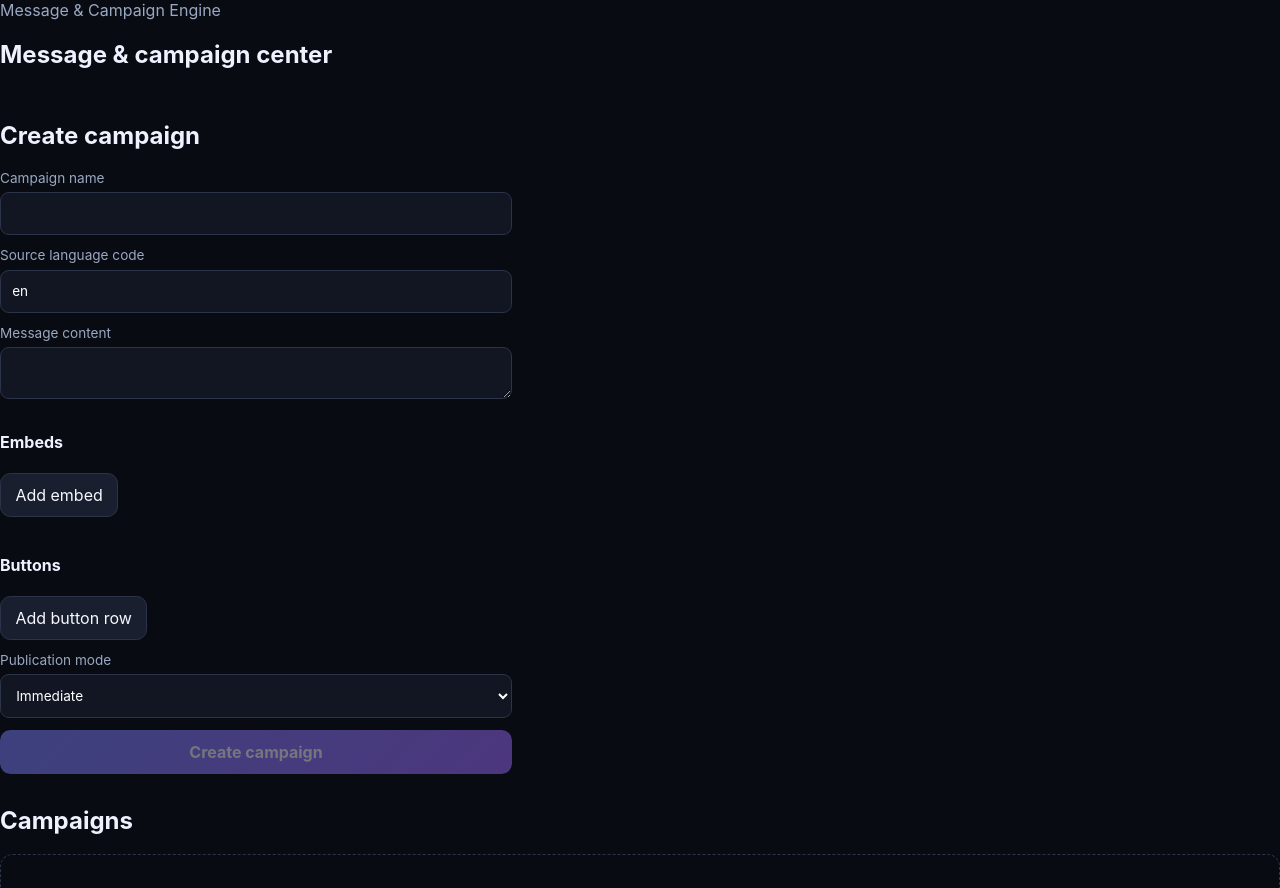
Test: STAGE 09 campaign center › creates a campaign through the real endpoint and selects it
Expected: the heading "Message & campaign center" is shown, [0,40,332,69]
Step 1. Type "Autumn sale" into the field labelled "Campaign name" → (256, 214), box [0,192,512,235]
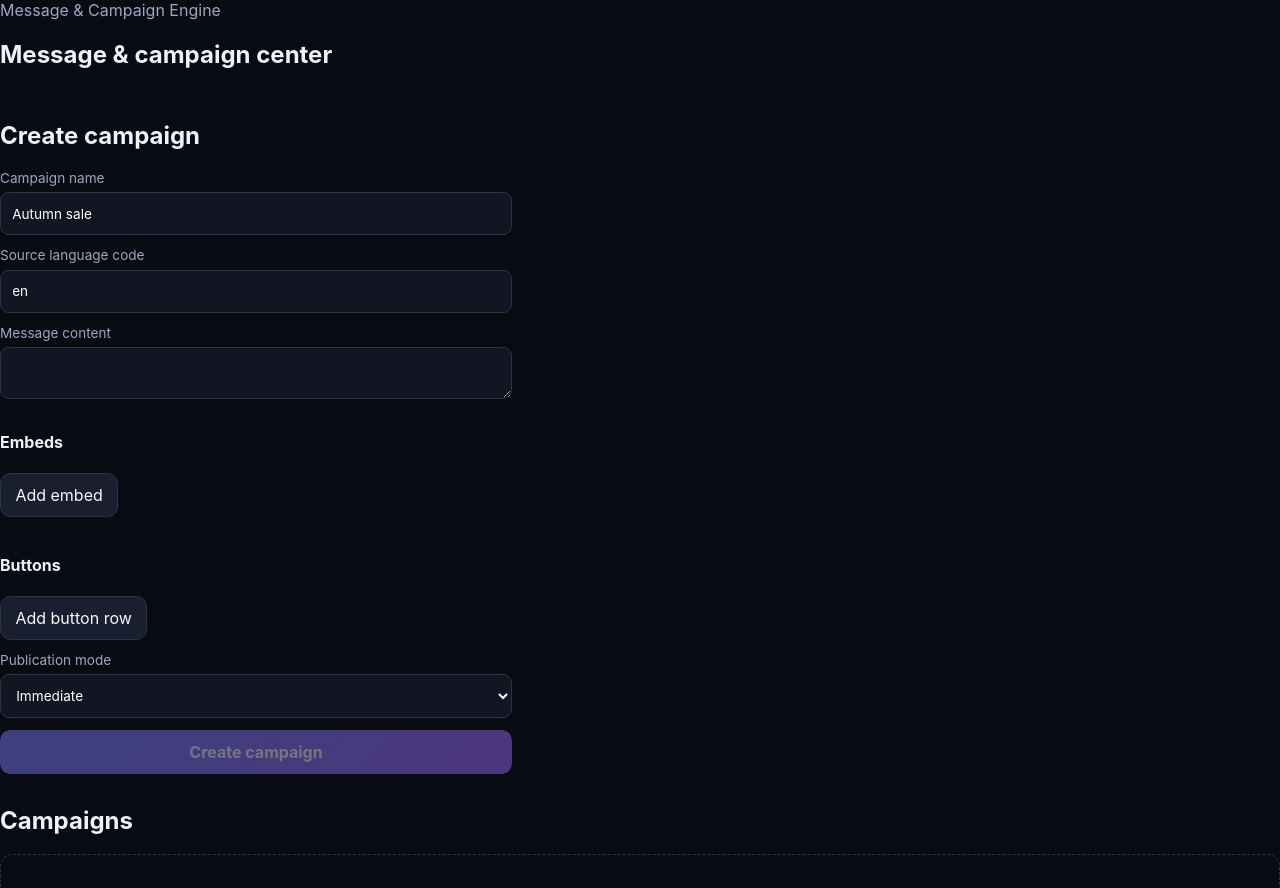
Step 2. Type "Hello everyone" into the text box labelled "Message content" → (256, 373), box [0,347,512,399]
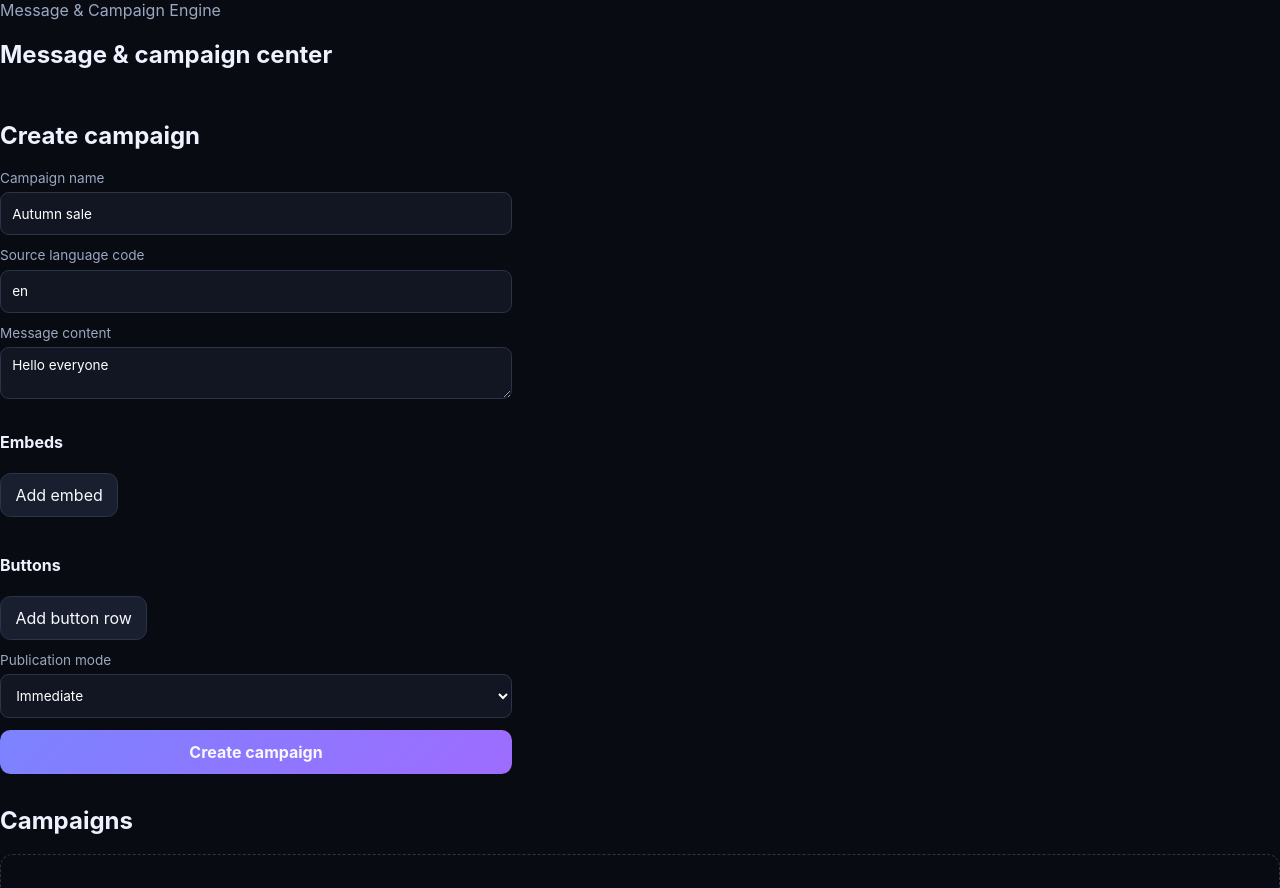
Step 3. Click the button "Create campaign" → (256, 752), box [0,730,512,774]
(page scrolled)
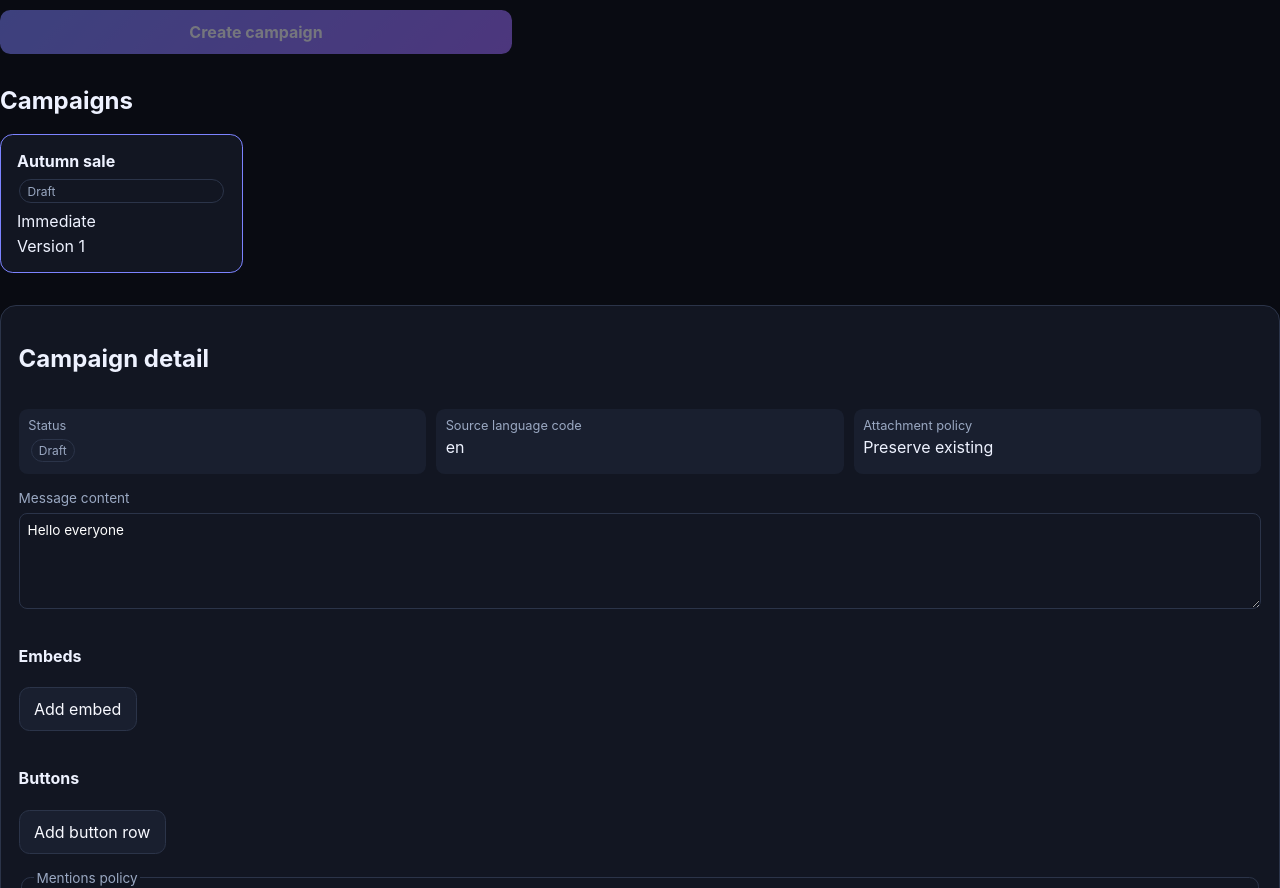
Expected: the heading "Campaign detail" is shown, [19,344,209,373]
Expected: the text "Draft" below "Status" is shown, [39,443,67,458]
